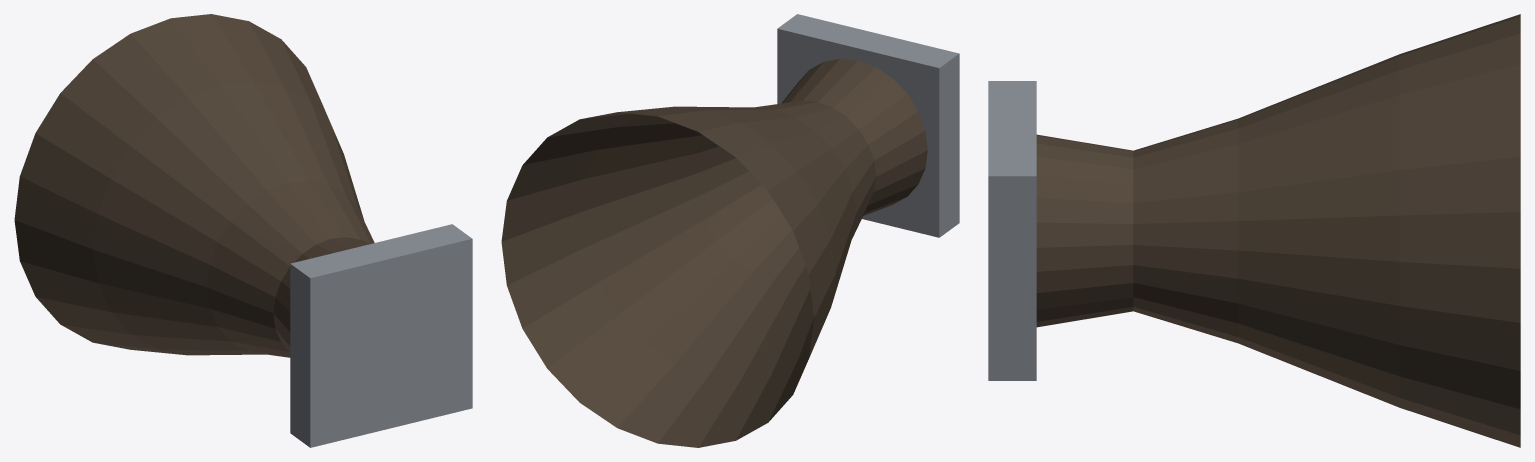
Rendered from kit_nozzle_bell.obj.
3 renders of one model, left to right at view 1: azimuth 30°, elevation 25°; view 2: azimuth 150°, elevation 25°; view 3: azimuth 270°, elevation 25°, orthographic. The views are drawn at different scales.
Parts seen in each view (by area): view 1: kit_nozzle_bell; view 2: kit_nozzle_bell; view 3: kit_nozzle_bell.
Boxes of the visible parts, x1,y1,x2,y2 form: kit_nozzle_bell: [14, 14, 472, 447]; kit_nozzle_bell: [501, 14, 959, 447]; kit_nozzle_bell: [988, 14, 1520, 447].
Size of the model in its own units: 0.54 by 0.54 by 0.66.
